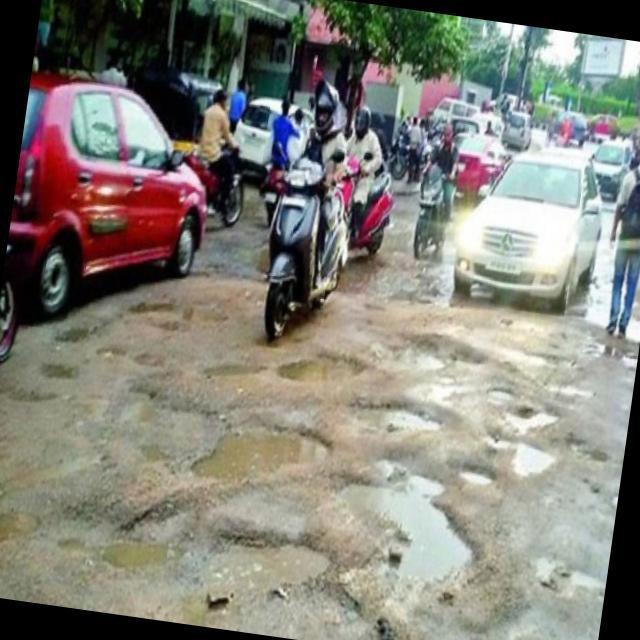Pothole: (314, 456, 494, 600), (200, 398, 313, 498), (374, 314, 506, 390), (336, 379, 472, 448), (0, 459, 65, 591), (264, 342, 396, 406), (90, 510, 184, 588), (476, 422, 556, 494), (191, 336, 278, 383), (36, 354, 112, 398), (459, 450, 517, 502), (126, 350, 194, 390), (496, 396, 559, 439), (148, 311, 206, 354), (475, 376, 526, 414), (49, 523, 94, 561), (130, 286, 182, 316), (52, 310, 98, 343), (95, 340, 134, 372)
